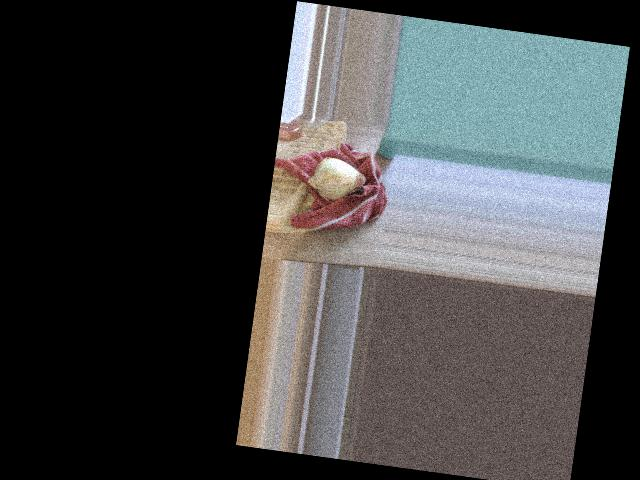onion: (310, 152, 364, 205)
